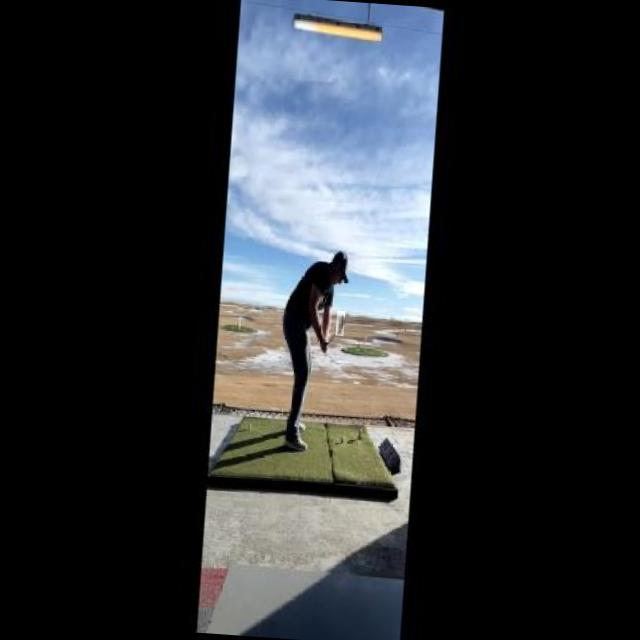club head: (335, 310, 345, 336)
